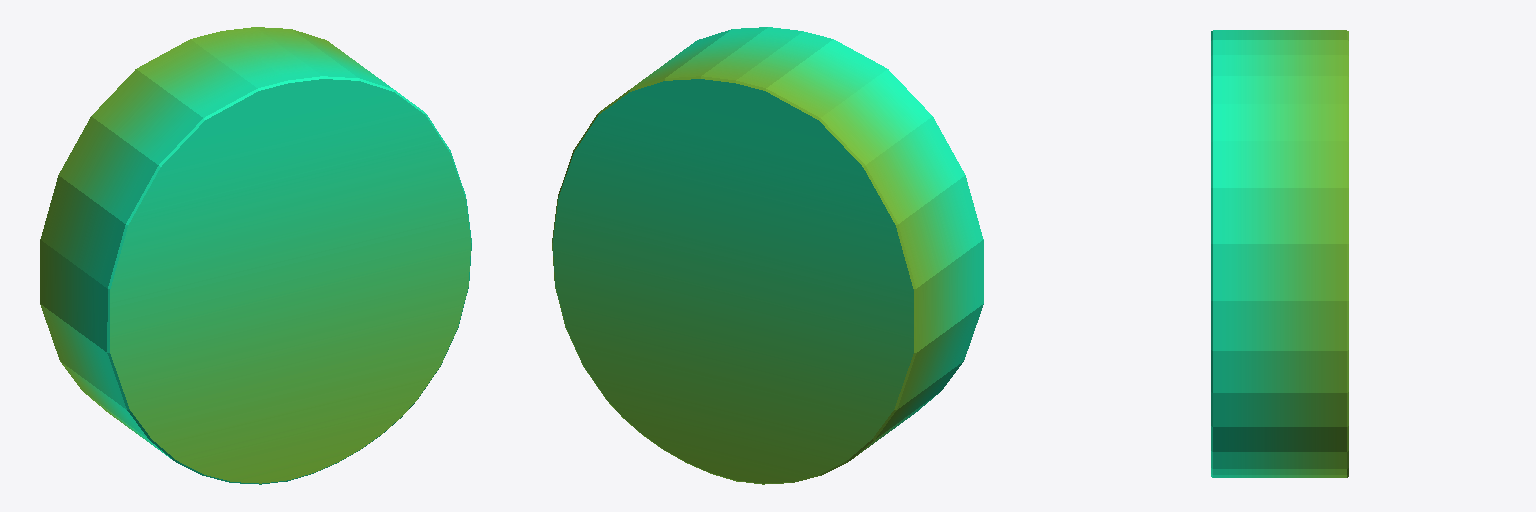
3 renders of one model, left to right at view 1: azimuth 30°, elevation 25°; view 2: azimuth 150°, elevation 25°; view 3: azimuth 270°, elevation 25°, orthographic.
Visible parts, largest first — view 1: polySurface17; view 2: polySurface17; view 3: polySurface17.
Part boxes in pixels (left/top/right/bottom): polySurface17: left=40, top=27, right=471, bottom=484; polySurface17: left=552, top=27, right=983, bottom=484; polySurface17: left=1211, top=30, right=1348, bottom=477.
Size of the model in its own units: 1.99 by 2.1 by 0.6578.
Materials: 1 (1 with a texture image).